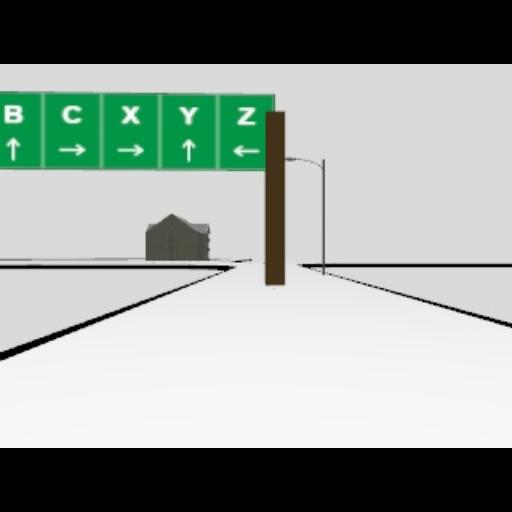B: (4, 104, 22, 124)
C: (60, 104, 82, 124)
Left: (231, 144, 261, 156)
Right: (58, 143, 88, 157), (115, 144, 145, 156)
Straight: (5, 136, 23, 160), (181, 138, 195, 160)
X: (120, 104, 140, 124)
Y: (178, 104, 198, 124)
Z: (236, 106, 256, 124)
